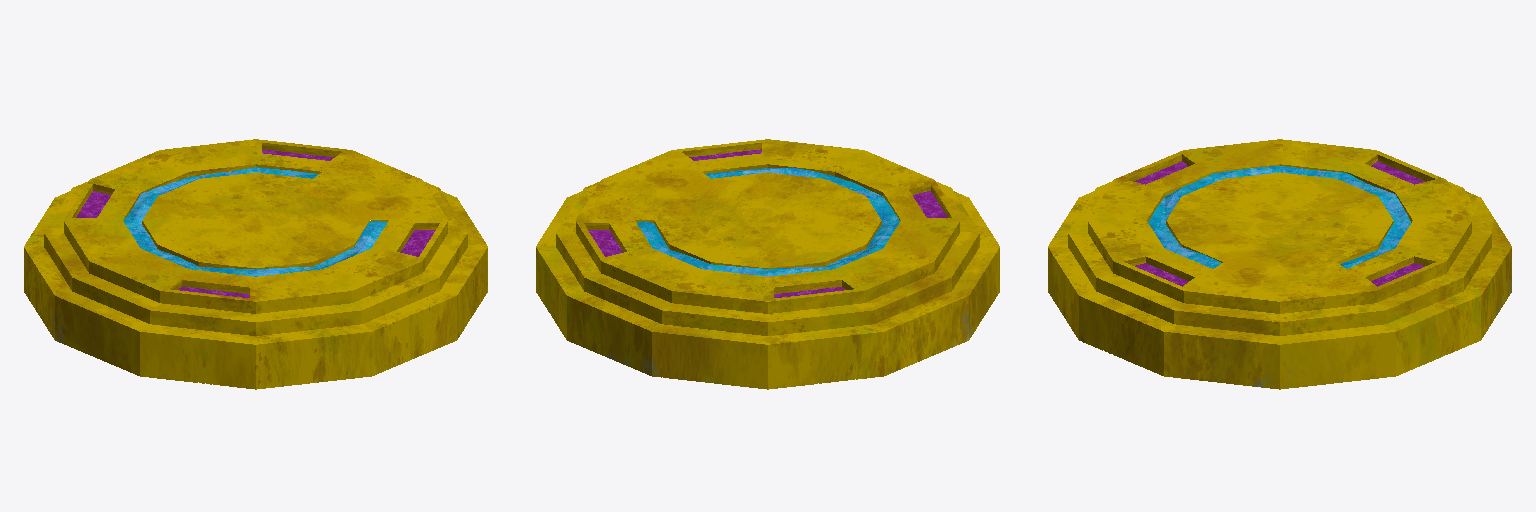
3 renders of one model, left to right at view 1: azimuth 30°, elevation 25°; view 2: azimuth 150°, elevation 25°; view 3: azimuth 270°, elevation 25°, orthographic.
Parts seen in each view (by area): view 1: base, agua; view 2: base, agua; view 3: base, agua.
Part boxes in pixels (bbox=[...]): base: bbox=[24, 139, 487, 389]; agua: bbox=[124, 167, 387, 276]; base: bbox=[536, 139, 999, 389]; agua: bbox=[637, 167, 899, 276]; base: bbox=[1048, 139, 1511, 389]; agua: bbox=[1148, 166, 1410, 268].
Size of the model in its own units: 28.25 by 4.77 by 28.25.
3 materials, 1 textured.